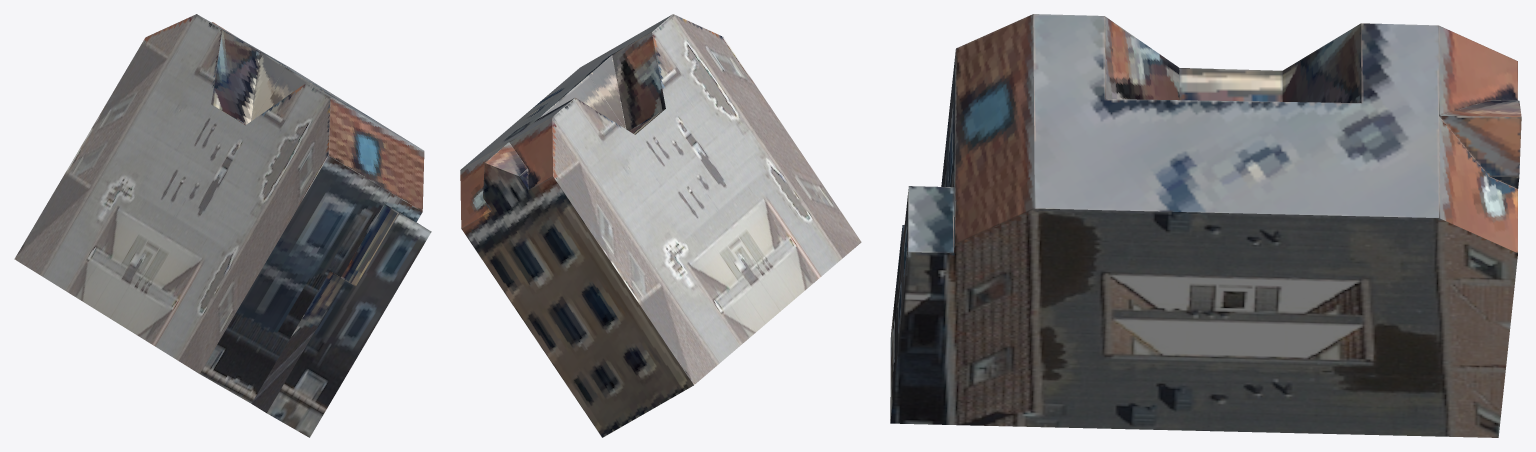
3 views of the same model, side by side, from view 1: azimuth 30°, elevation 25°; view 2: azimuth 150°, elevation 25°; view 3: azimuth 270°, elevation 25° (orthographic). The views are drawn at different scales.
Parts seen in each view (by area): view 1: BAG_0599100000670796 (×5); view 2: BAG_0599100000670796 (×5); view 3: BAG_0599100000670796 (×5).
Part boxes in pixels (box(x1,y1,x2,y2)): BAG_0599100000670796 (×5): box(14, 14, 431, 437); BAG_0599100000670796 (×5): box(460, 14, 861, 437); BAG_0599100000670796 (×5): box(890, 14, 1521, 437).
Bounding box in the file's own units: 12.85 × 14.25 × 16.92.
Materials: 1 (1 with a texture image).
